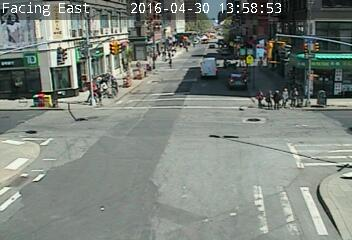neg: (207, 130, 233, 165), (139, 100, 163, 132), (180, 197, 204, 228), (193, 39, 216, 70), (30, 126, 53, 156), (75, 155, 97, 183), (298, 142, 319, 170), (15, 174, 36, 202), (260, 183, 280, 210), (55, 28, 75, 55), (30, 84, 50, 110), (263, 133, 283, 159), (101, 186, 121, 212), (246, 34, 265, 59), (148, 161, 166, 186), (301, 39, 319, 63), (160, 49, 177, 72), (86, 112, 102, 133), (133, 42, 146, 59)
pos: (268, 88, 284, 109), (280, 84, 295, 105), (288, 85, 303, 104), (249, 89, 262, 106), (260, 88, 273, 105)
